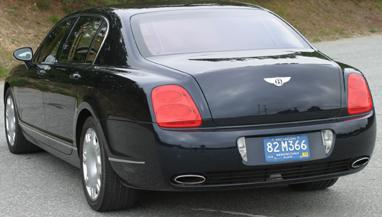back_view: (126, 65, 380, 193)
backlight: (146, 79, 205, 133)
side_glass: (31, 14, 113, 65)
